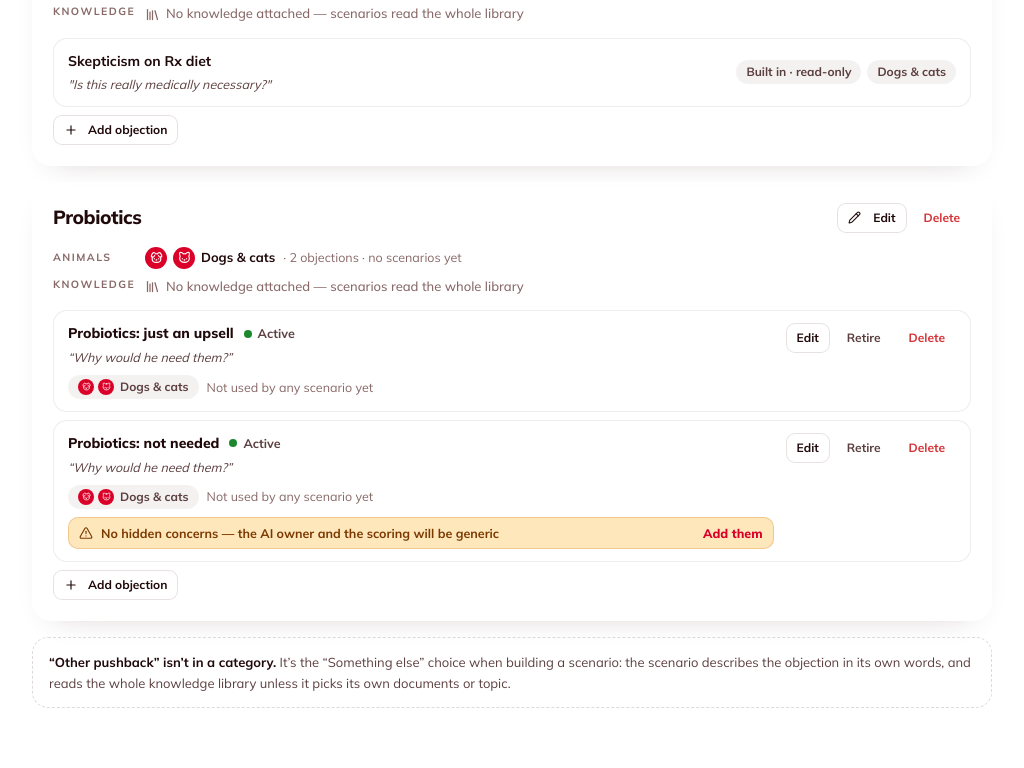
Scenario: Categories tab — objections without hidden concerns › “Add them” opens the editor on Coaching, focused on the hidden concerns, and says why they matter
(page scrolled)
Expected: the element "Probiotics" is shown, x1=32 y1=182 x2=992 y2=621
Click the button with aria-label "Add hidden concerns to “Probiotics: not needed”". click: click(733, 533)
box: x1=703 y1=524 x2=763 y2=542
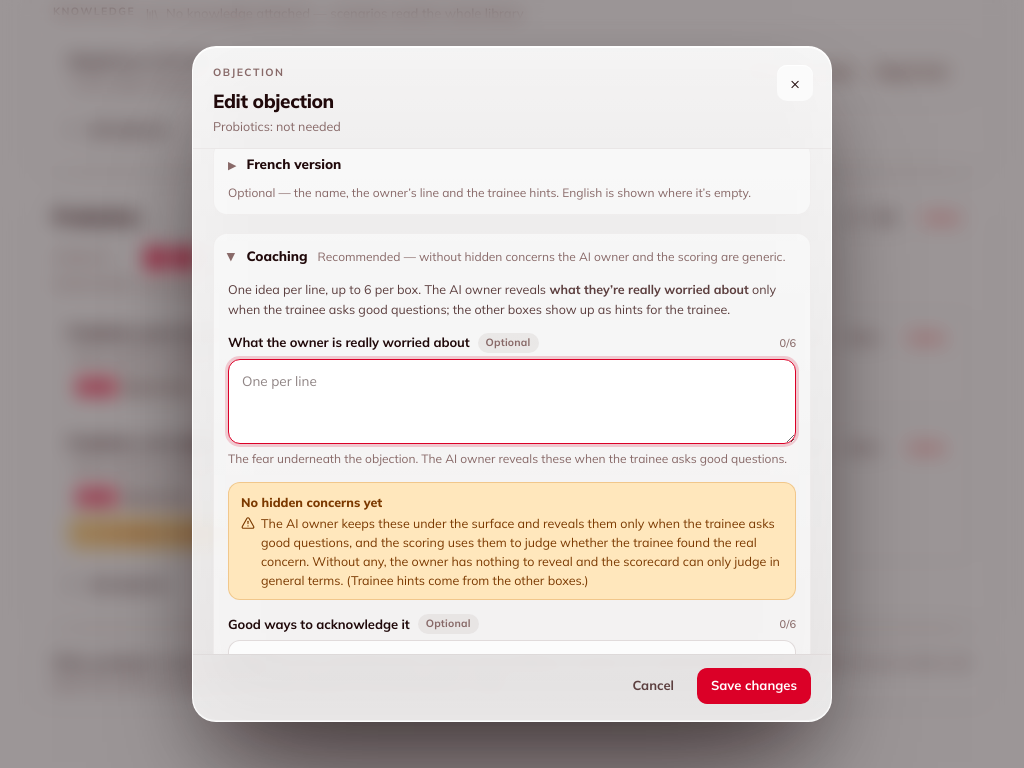
Expected: the text "No hidden concerns yet" is shown, x1=241 y1=494 x2=382 y2=510
Expected: the text "Trainee hints come from the other boxes" is shown, x1=261 y1=515 x2=780 y2=588
